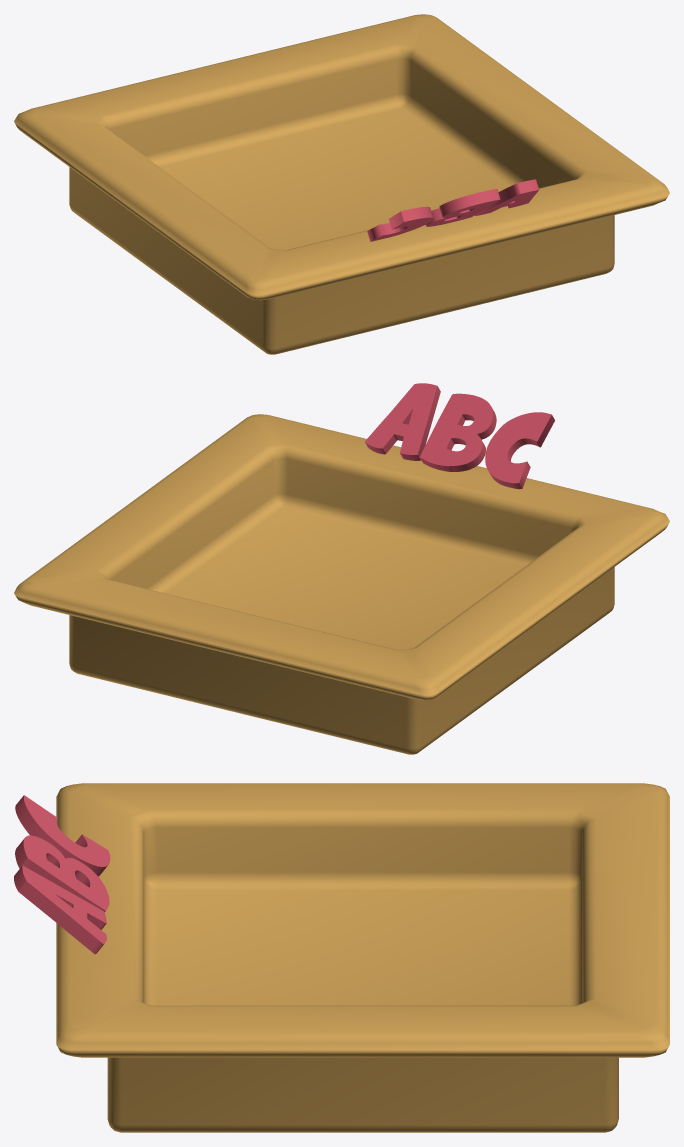
Rendered from caixa letras.fbx.
3 renders of one model, top to bottom at view 1: azimuth 30°, elevation 25°; view 2: azimuth 150°, elevation 25°; view 3: azimuth 270°, elevation 25°, orthographic. The views are drawn at different scales.
Visible parts, largest first — view 1: Cube.013, Text.008; view 2: Cube.013, Text.008; view 3: Cube.013, Text.008.
Boxes of the visible parts, box(x1,y1,x2,y2) form: Cube.013: box(14, 14, 669, 354); Text.008: box(367, 179, 539, 241); Cube.013: box(14, 414, 669, 754); Text.008: box(365, 383, 554, 489); Cube.013: box(56, 783, 669, 1132); Text.008: box(14, 795, 110, 954).
Bounding box in the file's own units: 1.47 × 0.4966 × 1.57.
